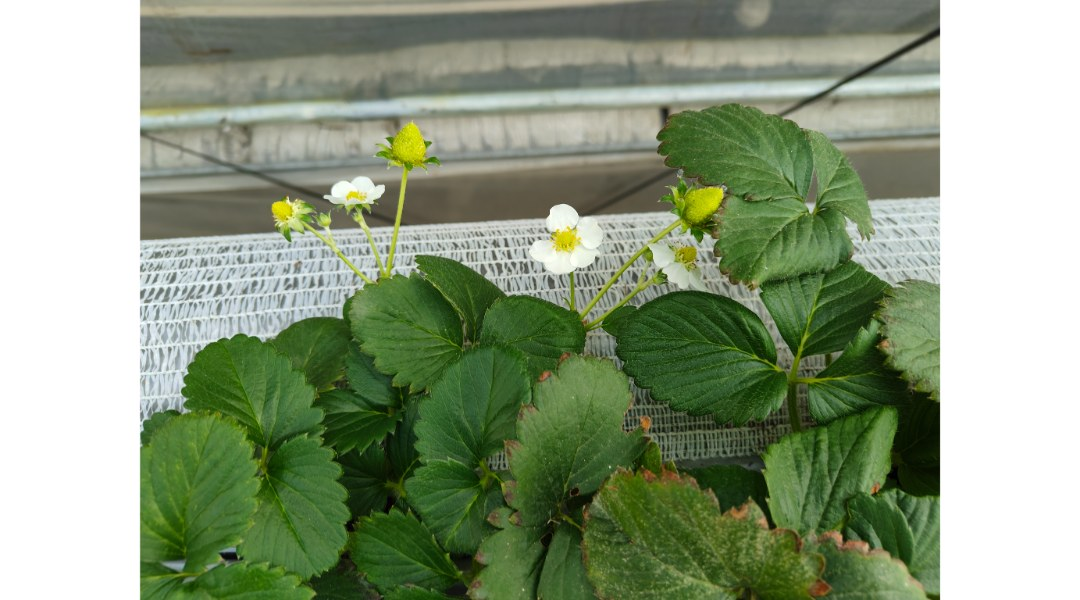berry: (663, 174, 736, 233), (379, 109, 438, 172), (264, 190, 321, 249)
flower: (530, 197, 609, 285), (645, 234, 719, 291), (316, 169, 395, 220)
strain: (588, 276, 660, 340), (614, 217, 679, 271), (387, 172, 411, 280), (325, 245, 371, 276), (357, 215, 380, 272)
